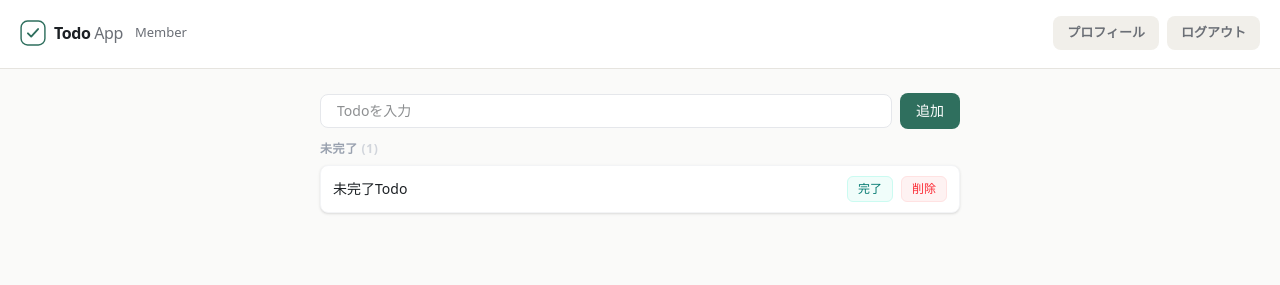
Scenario: TodoApp › 新しいTodoを追加すると未完了セクションに表示される
Expected: the text "未完了Todo" is shown, left=333, top=178, right=407, bottom=198
Type "新しいTodo" into the field with placeholder "Todoを入力".
click(606, 110); type("新しいTodo")  # box left=320, top=94, right=892, bottom=128
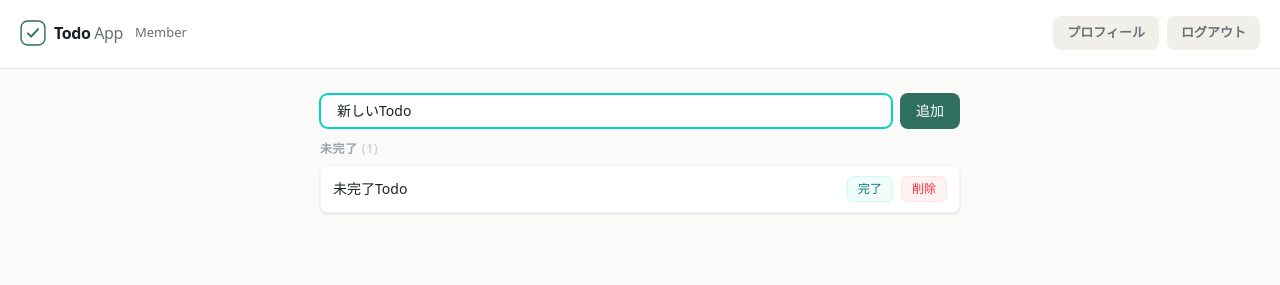
Click the button "追加".
click(930, 110)  # box left=900, top=92, right=960, bottom=128
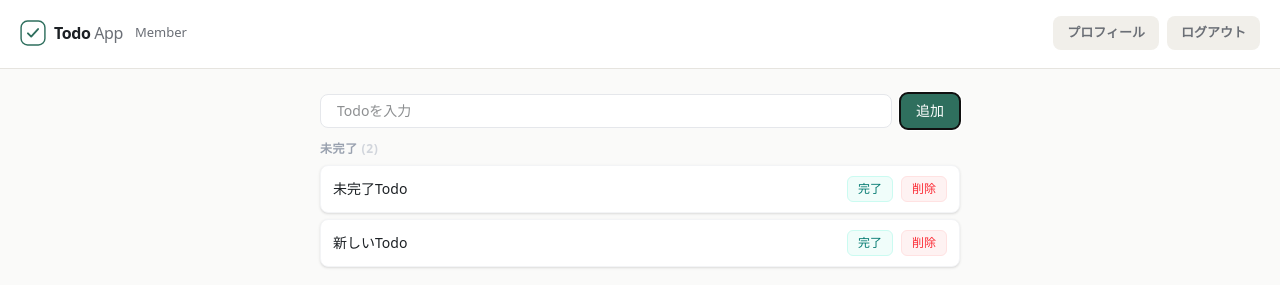
Result: the text "新しいTodo" is shown at left=333, top=232, right=407, bottom=252
